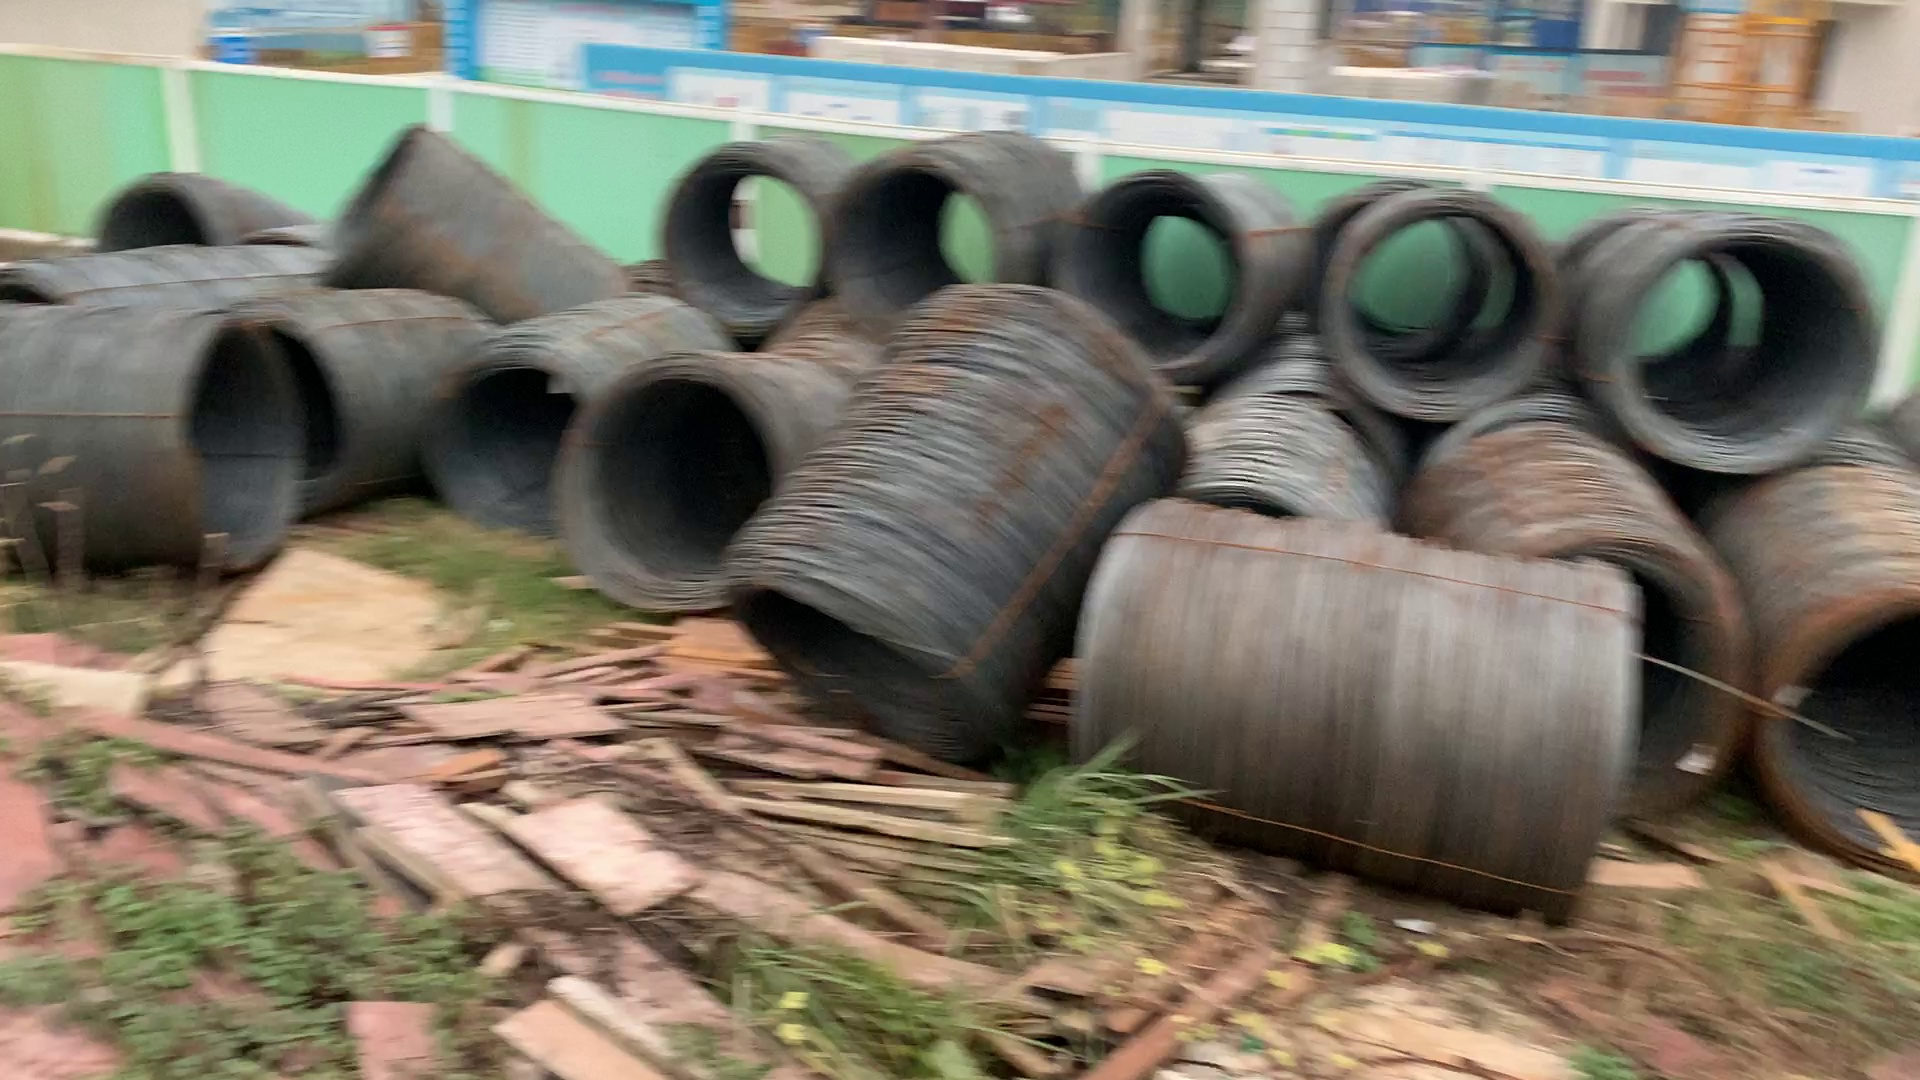coil: (1495, 521, 1749, 835), (709, 568, 1015, 767), (1618, 235, 1865, 479), (556, 352, 789, 604), (1340, 199, 1557, 425), (1071, 171, 1261, 382), (1782, 603, 1917, 887), (164, 320, 299, 560), (824, 160, 1018, 320), (659, 149, 829, 332), (443, 343, 564, 546), (315, 124, 427, 260), (290, 318, 368, 513), (90, 177, 229, 260)
